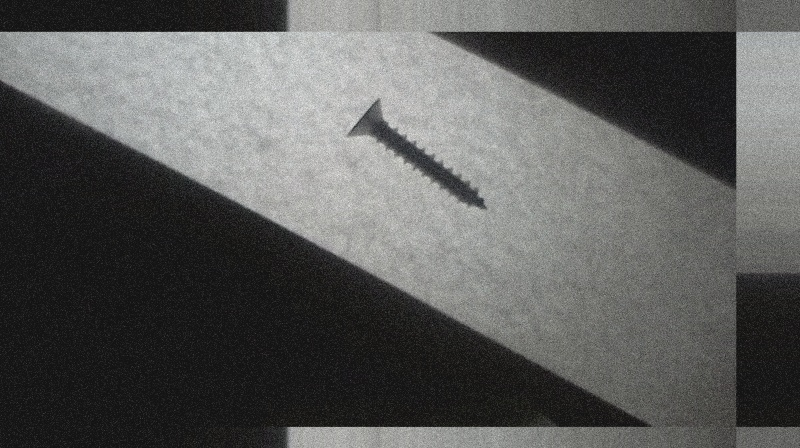S001: (343, 93, 491, 212)
